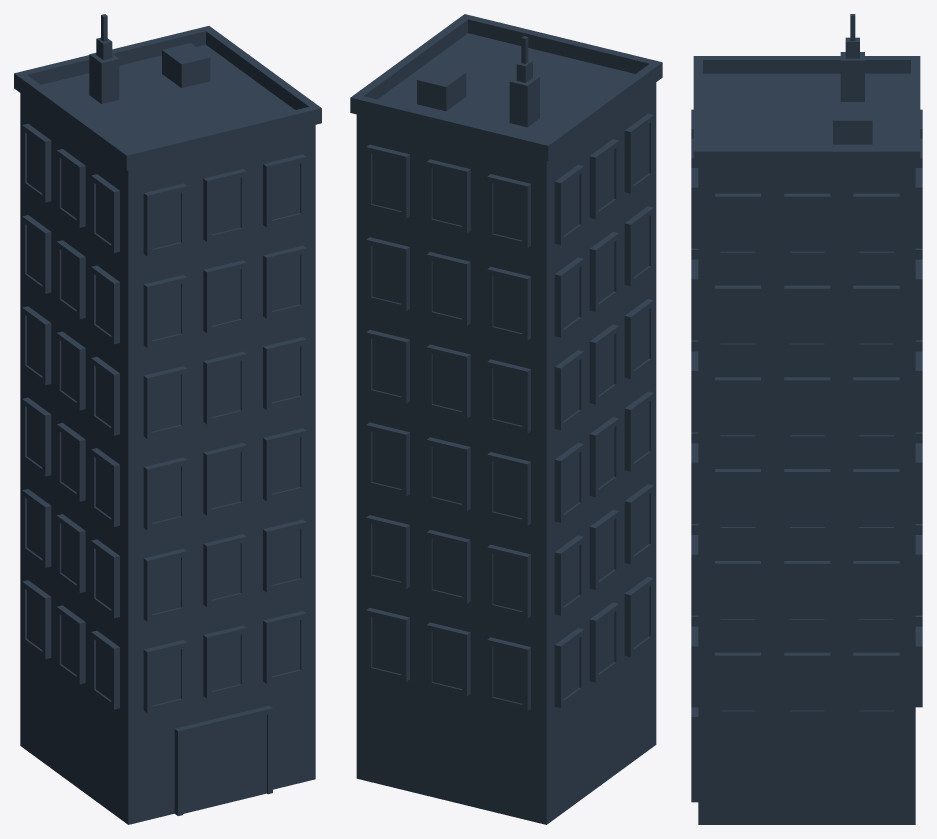
The model's file is Predio Torre.fbx.
3 renders of one model, left to right at view 1: azimuth 30°, elevation 25°; view 2: azimuth 150°, elevation 25°; view 3: azimuth 270°, elevation 25°, orthographic.
Parts seen in each view (by area): view 1: Predio Torre.001; view 2: Predio Torre.001; view 3: Predio Torre.001.
Part boxes in pixels (<box>): Predio Torre.001: <box>14,14,321,824</box>; Predio Torre.001: <box>350,14,662,824</box>; Predio Torre.001: <box>691,14,922,824</box>.
Bounding box in the file's own units: 532 × 1889 × 532.
